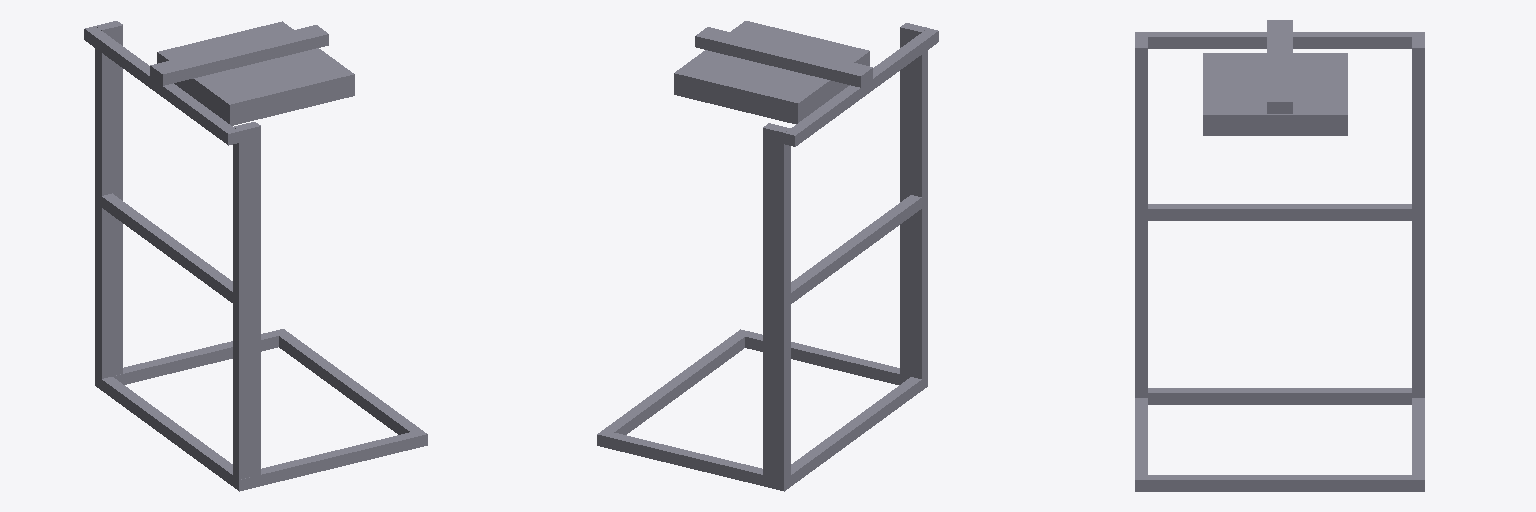
robot.urdf — workcell:
<?xml version="1.0" ?>
<robot name="workcell" xmlns:xacro="http://wiki.ros.org/xacro">
  <!--
    9-box approximation of the 80/20 aluminum workcell frame. The high-poly
    workcell.stl (~14k tris) lived here for visual+collision, but
    its triangle count made the MoveIt Pro 3D Visualizer planning scene slow
    to render. The boxes below are sized from the STL's per-extrusion
    axis-aligned bounding boxes so the silhouette and reach-through gaps
    match the source mesh.

    Local frame matches the original STL: origin at the workcell's
    front-right-bottom corner, mesh-X toward workcell-left (the back wall
    side), mesh-Y toward workcell-back (away from the operator), mesh-Z up.
    The +90 deg yaw and world placement of this URDF are applied at the
    AddURDF call site in load_calibrated_scene.xml.

    Frame layout (see boxes below):
      - Two vertical 3"x1.5" corner posts at the workcell's back-side
        (boxes 8, 9), spanning z=0.04..1.26.
      - Three horizontal cross-rails connecting them: bottom (5), mid (6,
        at z=0.66 where the scene-camera mount plate sits), and top (4).
      - Four bottom-frame rails (2, 3, 5, 7) forming a 0.61 x 0.91 m
        rectangle at the table top.
      - One top transverse crossbeam (1) cantilevering from the back wall
        forward over the workspace; this is the beam the scene-camera mount
        hangs under.
  -->
  <material name="workcell_material">
    <color rgba="0.6 0.6 0.65 1"/>
  </material>
  <link name="workcell">
    <!-- 1. Top transverse crossbeam (back-wall top out to front, mid-Y) -->
    <visual>
      <origin xyz="-0.4285 0.483 1.276" rpy="0 0 0"/>
      <geometry><box size="0.609 0.080 0.040"/></geometry>
      <material name="workcell_material"/>
    </visual>
    <collision>
      <origin xyz="-0.4285 0.483 1.276" rpy="0 0 0"/>
      <geometry><box size="0.609 0.080 0.040"/></geometry>
    </collision>

    <!-- 2. Bottom-frame front rail -->
    <visual>
      <origin xyz="-0.3485 0.046 0.017" rpy="0 0 0"/>
      <geometry><box size="0.609 0.040 0.040"/></geometry>
      <material name="workcell_material"/>
    </visual>
    <collision>
      <origin xyz="-0.3485 0.046 0.017" rpy="0 0 0"/>
      <geometry><box size="0.609 0.040 0.040"/></geometry>
    </collision>

    <!-- 3. Bottom-frame back rail -->
    <visual>
      <origin xyz="-0.3485 0.920 0.017" rpy="0 0 0"/>
      <geometry><box size="0.609 0.040 0.040"/></geometry>
      <material name="workcell_material"/>
    </visual>
    <collision>
      <origin xyz="-0.3485 0.920 0.017" rpy="0 0 0"/>
      <geometry><box size="0.609 0.040 0.040"/></geometry>
    </collision>

    <!-- 4. Back-wall top rail (front-to-back, at top of posts) -->
    <visual>
      <origin xyz="-0.713 0.483 1.236" rpy="0 0 0"/>
      <geometry><box size="0.040 0.914 0.040"/></geometry>
      <material name="workcell_material"/>
    </visual>
    <collision>
      <origin xyz="-0.713 0.483 1.236" rpy="0 0 0"/>
      <geometry><box size="0.040 0.914 0.040"/></geometry>
    </collision>

    <!-- 5. Back-wall bottom rail (also the bottom-frame's back-side rail) -->
    <visual>
      <origin xyz="-0.673 0.483 0.017" rpy="0 0 0"/>
      <geometry><box size="0.040 0.914 0.040"/></geometry>
      <material name="workcell_material"/>
    </visual>
    <collision>
      <origin xyz="-0.673 0.483 0.017" rpy="0 0 0"/>
      <geometry><box size="0.040 0.914 0.040"/></geometry>
    </collision>

    <!-- 6. Back-wall mid rail (scene-camera mount crossbar, z=0.66) -->
    <visual>
      <origin xyz="-0.673 0.483 0.657" rpy="0 0 0"/>
      <geometry><box size="0.040 0.914 0.040"/></geometry>
      <material name="workcell_material"/>
    </visual>
    <collision>
      <origin xyz="-0.673 0.483 0.657" rpy="0 0 0"/>
      <geometry><box size="0.040 0.914 0.040"/></geometry>
    </collision>

    <!-- 7. Bottom-frame front-side rail (the rail opposite the back wall) -->
    <visual>
      <origin xyz="-0.024 0.483 0.017" rpy="0 0 0"/>
      <geometry><box size="0.040 0.914 0.040"/></geometry>
      <material name="workcell_material"/>
    </visual>
    <collision>
      <origin xyz="-0.024 0.483 0.017" rpy="0 0 0"/>
      <geometry><box size="0.040 0.914 0.040"/></geometry>
    </collision>

    <!-- 8. Back-wall vertical post (workcell-front corner, 3"x1.5" extrusion) -->
    <visual>
      <origin xyz="-0.653 0.046 0.647" rpy="0 0 0"/>
      <geometry><box size="0.080 0.040 1.219"/></geometry>
      <material name="workcell_material"/>
    </visual>
    <collision>
      <origin xyz="-0.653 0.046 0.647" rpy="0 0 0"/>
      <geometry><box size="0.080 0.040 1.219"/></geometry>
    </collision>

    <!-- 9. Back-wall vertical post (workcell-back corner, 3"x1.5" extrusion) -->
    <visual>
      <origin xyz="-0.653 0.920 0.647" rpy="0 0 0"/>
      <geometry><box size="0.080 0.040 1.219"/></geometry>
      <material name="workcell_material"/>
    </visual>
    <collision>
      <origin xyz="-0.653 0.920 0.647" rpy="0 0 0"/>
      <geometry><box size="0.080 0.040 1.219"/></geometry>
    </collision>

    <!-- 10. Overhead ring light: source mesh was an annulus (OD=0.458,
         ID=0.342, axial thickness 0.076, axis along workcell-Z). The URDF
         side uses a flat box sized to the disk's bounding box — the MJCF
         keeps a true cylinder (renders correctly in MuJoCo) but the
         MoveIt Pro 3D Visualizer mis-renders flat URDF cylinders and
         doesn't reliably pick up a low-poly STL stand-in for them, so the
         planning scene gets a square footprint instead of a circular one
         (negligible for a 76 mm-thick overhead element). -->
    <visual>
      <origin xyz="-0.376 0.470 1.204" rpy="0 0 0"/>
      <geometry><box size="0.458 0.458 0.076"/></geometry>
      <material name="workcell_material"/>
    </visual>
    <collision>
      <origin xyz="-0.376 0.470 1.204" rpy="0 0 0"/>
      <geometry><box size="0.458 0.458 0.076"/></geometry>
    </collision>
  </link>
</robot>

--- Facts derived from the render (not from the file) ---
Views: 3 orthographic renders of the robot side by side, from view 1: azimuth 30°, elevation 25°; view 2: azimuth 150°, elevation 25°; view 3: azimuth 270°, elevation 25°.
Robot: workcell — 1 links, 0 joints (none); root link workcell; default pose: every joint at zero.
Links seen in each view (by area): view 1: workcell; view 2: workcell; view 3: workcell.
Link boxes in pixels (bbox=[...]): workcell: bbox=[84, 21, 427, 491]; workcell: bbox=[597, 21, 938, 491]; workcell: bbox=[1135, 20, 1424, 491].
Size in the robot's own frame: 0.729 by 0.914 by 1.3 metres.
Geometry: primitives only (box / cylinder / sphere), no mesh files.
